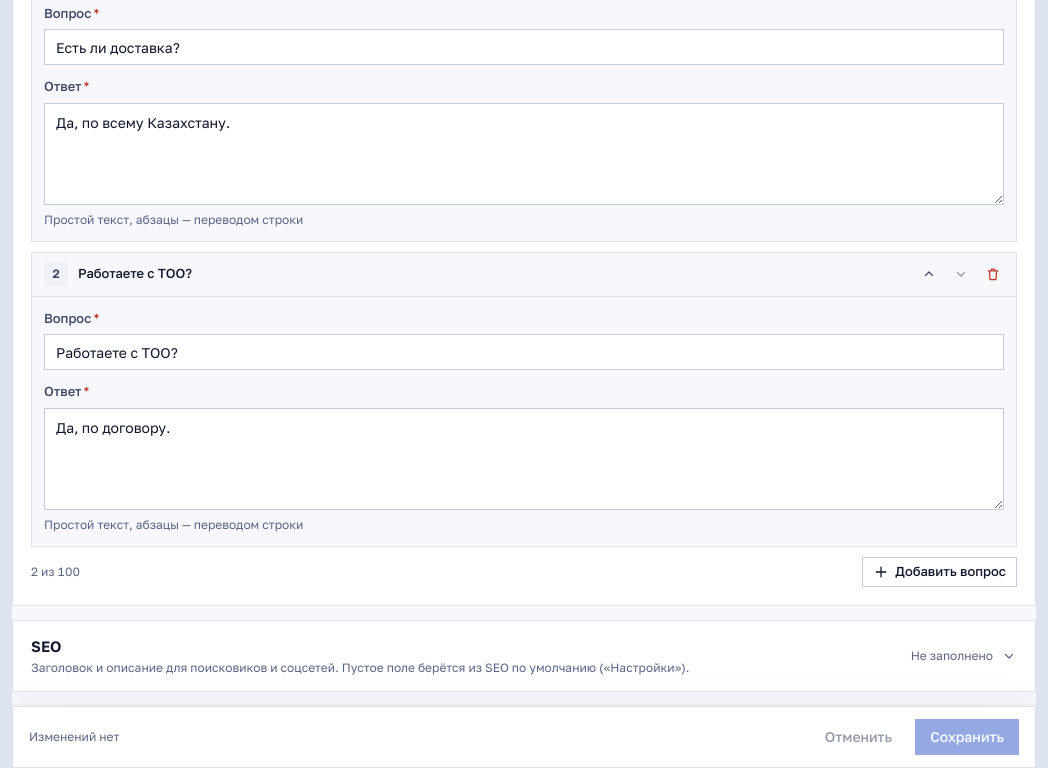
Scenario: редактирование и сохранение › 422 backend раскладывается по полям; ошибка без поля — в сводке, SEO раскрывается
(page scrolled)
Expected: the button "Сохранить" is shown, [915,719,1019,755]
In the text box labelled "Ответ*" below "Работаете с ТОО?": (524, 459) [44,408,1004,510], type "!"
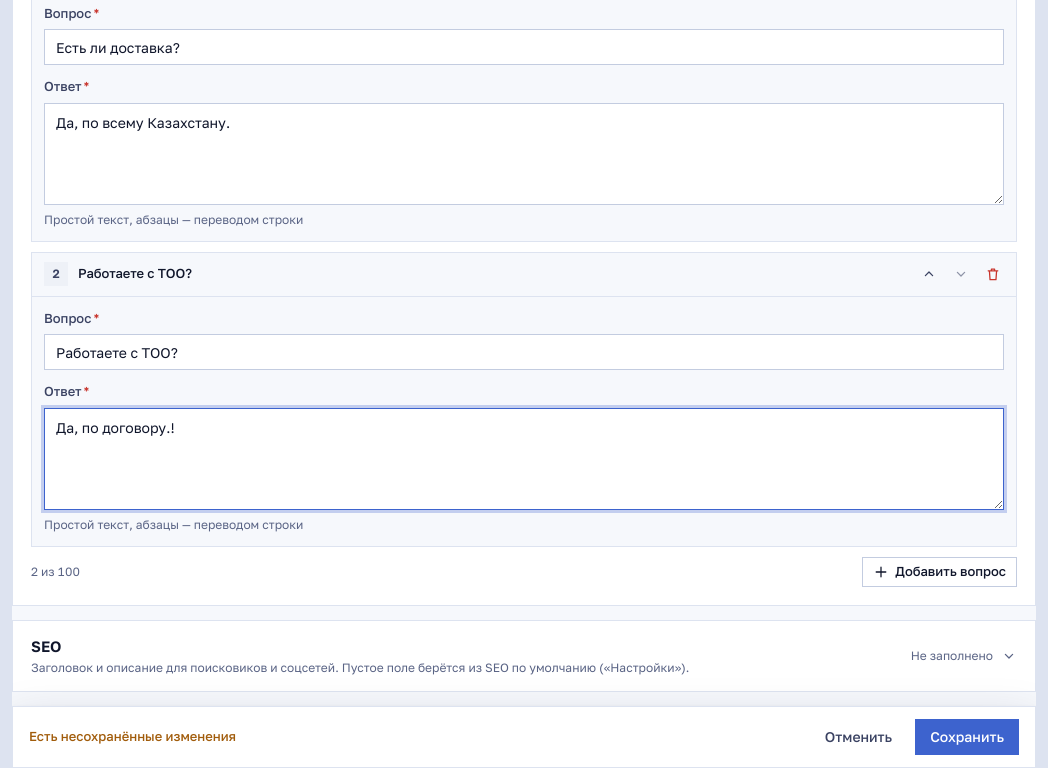
Click the button "Сохранить": (967, 737) [915,719,1019,755]
(page scrolled)
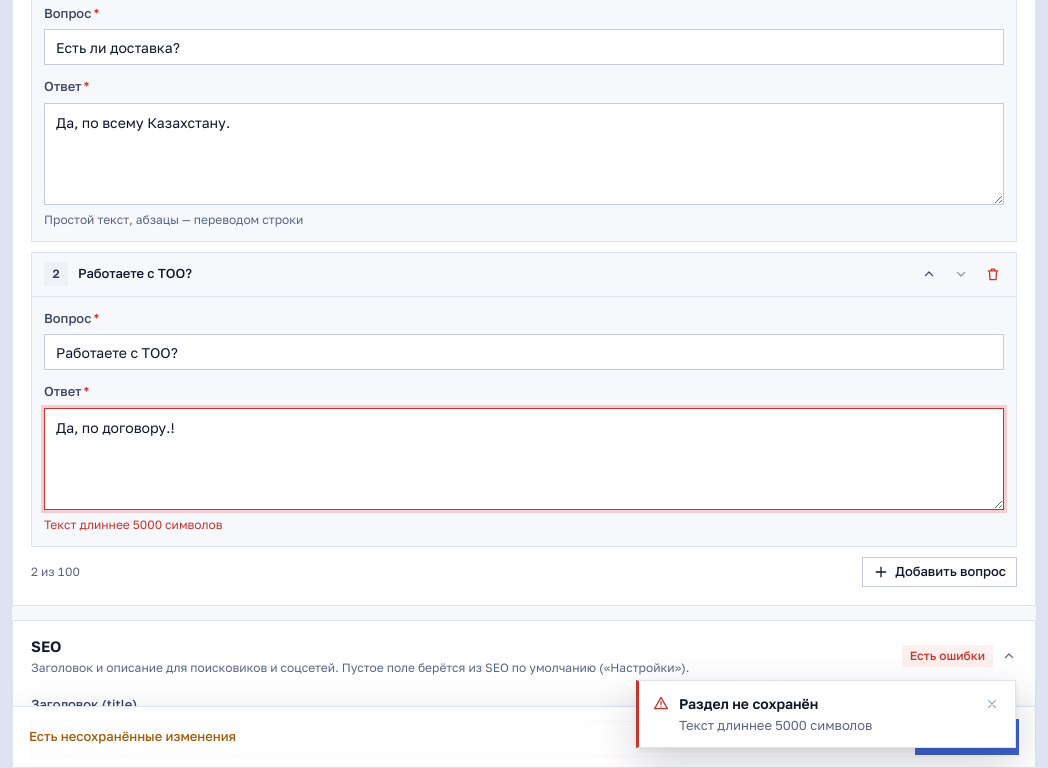
Expected: the text "Текст длиннее 5000 символов" is shown, [44,517,222,532]
Expected: the button "SEO" is expanded, [13,621,1035,691]
Expected: the text "Раздел не сохранён" is shown, [679,694,818,712]
